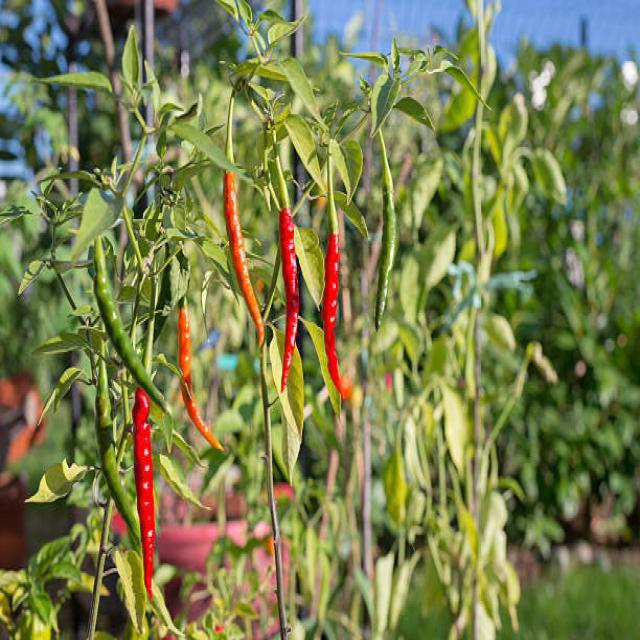Ripe: (223, 172, 262, 344), (178, 300, 222, 449), (132, 391, 154, 596), (321, 232, 348, 397), (280, 210, 297, 396)
Unripe: (94, 253, 164, 413), (94, 382, 140, 540), (376, 130, 397, 329)
